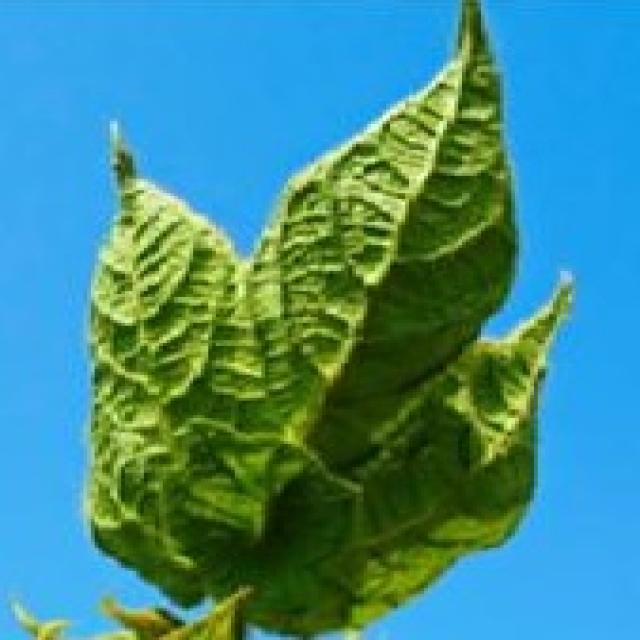Leaf Curl Virus: (28, 0, 608, 640)
